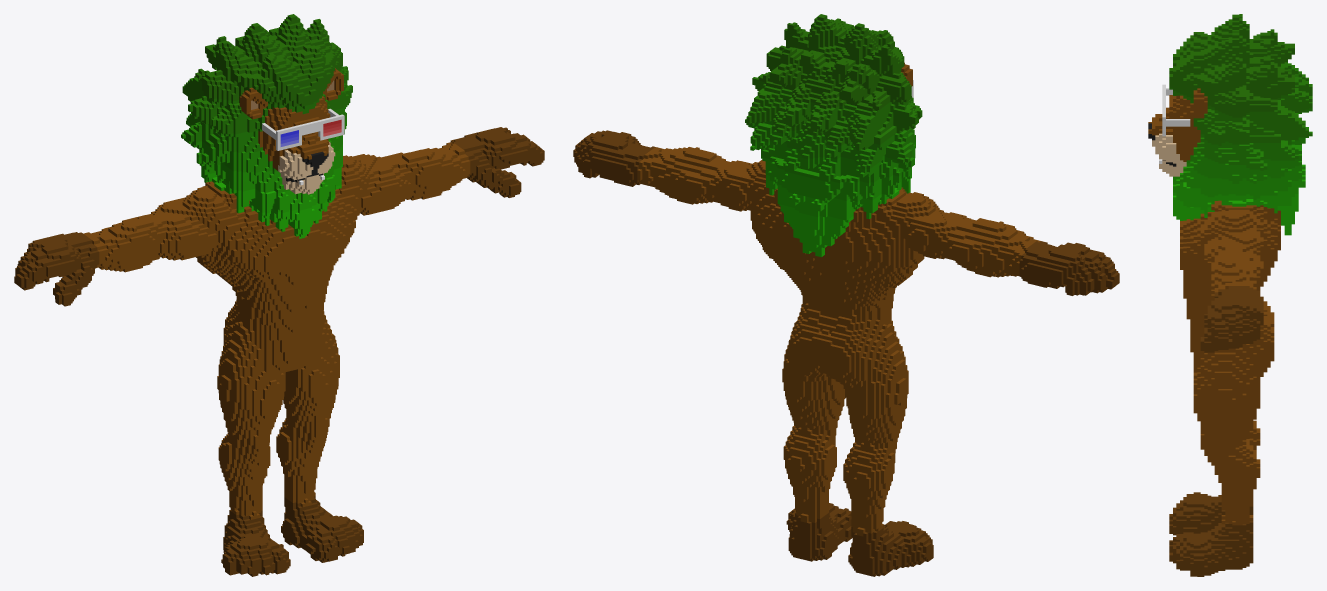
File: 645-BL0SJpRZ.glb
The picture shows the model from 3 angles, left to right: view 1: azimuth 30°, elevation 25°; view 2: azimuth 150°, elevation 25°; view 3: azimuth 270°, elevation 25°; orthographic projection. The views are drawn at different scales.
Visible parts, largest first — view 1: standard; view 2: standard; view 3: standard.
Part boxes in pixels (<box>): standard: <box>14,14,544,576</box>; standard: <box>573,14,1119,576</box>; standard: <box>1148,14,1312,576</box>.
Bounding box in the file's own units: 17.2 × 16.5 × 4.7.
4 materials, 4 textured.
